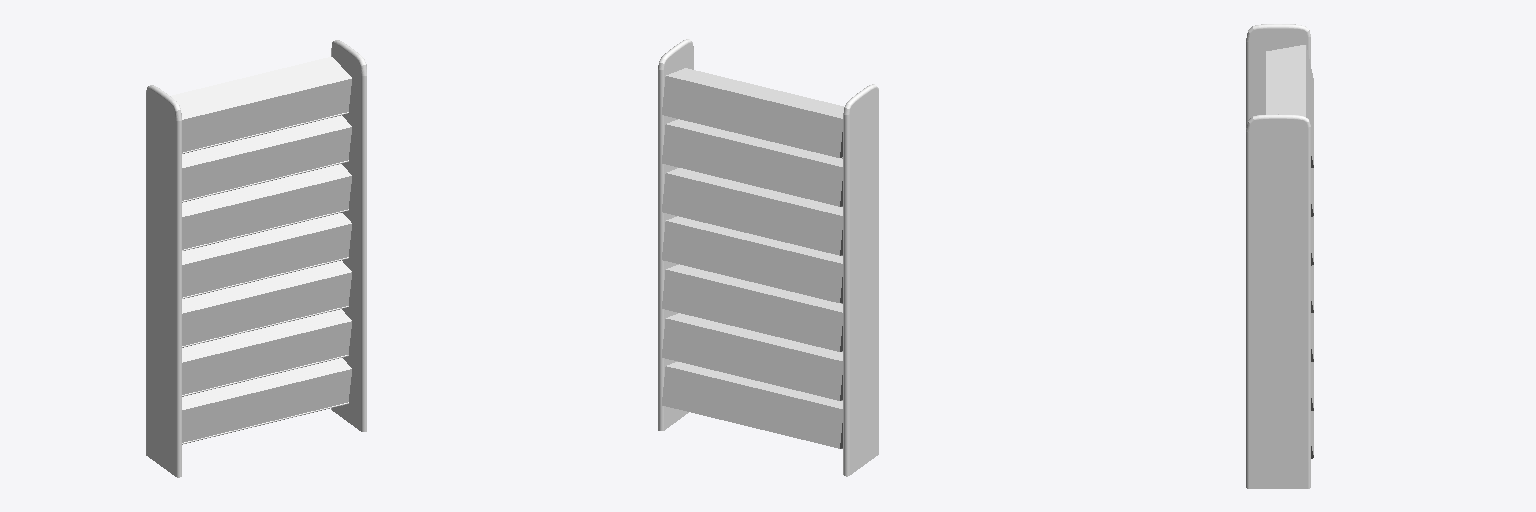
The model's file is CDrack.obj.
3 renders of one model, left to right at view 1: azimuth 30°, elevation 25°; view 2: azimuth 150°, elevation 25°; view 3: azimuth 270°, elevation 25°, orthographic.
Visible parts, largest first — view 1: loftedSurface67_29_29, pCube14_3_3, pCube2064_24_24, pCube24_6_6, loftedSurface65_27_27, pCube2054_21_21, pCube44_12_12, pCube34_9_9, pCube2044_18_18, pCube12_2_2, loftedSurface67_29_73, pCube2044_18_62 (+24 smaller); view 2: loftedSurface67_29_29, pCube24_6_6, pCube14_3_3, pCube2064_24_24, pCube34_9_9, pCube44_12_12, pCube2044_18_18, pCube2054_21_21, loftedSurface67_29_73, pCube2054_21_65, pCube2044_18_62, pCube44_12_56 (+19 smaller); view 3: loftedSurface66_28_28, loftedSurface66_28_72, pCube12_2_2, extrudedSurface1521_26_26, loftedSurface68_30_30, loftedSurface68_30_74, pCube12_2_46, extrudedSurface1521_26_70.
Part boxes in pixels (bbox=[...]): loftedSurface67_29_29: bbox=[147, 89, 175, 476]; pCube14_3_3: bbox=[182, 79, 351, 151]; pCube2064_24_24: bbox=[182, 369, 351, 442]; pCube24_6_6: bbox=[182, 127, 351, 200]; loftedSurface65_27_27: bbox=[332, 44, 360, 430]; pCube2054_21_21: bbox=[182, 321, 351, 394]; pCube44_12_12: bbox=[182, 224, 351, 296]; pCube34_9_9: bbox=[182, 176, 351, 249]; pCube2044_18_18: bbox=[182, 273, 351, 345]; pCube12_2_2: bbox=[171, 57, 351, 119]; loftedSurface67_29_73: bbox=[147, 89, 175, 474]; pCube2044_18_62: bbox=[182, 272, 351, 344]; loftedSurface67_29_29: bbox=[850, 89, 878, 473]; pCube24_6_6: bbox=[662, 124, 842, 206]; pCube14_3_3: bbox=[662, 76, 842, 157]; pCube2064_24_24: bbox=[662, 366, 842, 448]; pCube34_9_9: bbox=[662, 173, 842, 255]; pCube44_12_12: bbox=[662, 221, 842, 302]; pCube2044_18_18: bbox=[662, 270, 842, 351]; pCube2054_21_21: bbox=[662, 319, 842, 400]; loftedSurface67_29_73: bbox=[850, 88, 878, 474]; pCube2054_21_65: bbox=[662, 320, 842, 400]; pCube2044_18_62: bbox=[662, 270, 842, 350]; pCube44_12_56: bbox=[662, 221, 842, 302]; loftedSurface66_28_28: bbox=[1249, 119, 1307, 488]; loftedSurface66_28_72: bbox=[1249, 119, 1307, 488]; pCube12_2_2: bbox=[1266, 45, 1305, 116]; extrudedSurface1521_26_26: bbox=[1246, 114, 1310, 488]; loftedSurface68_30_30: bbox=[1249, 29, 1307, 118]; loftedSurface68_30_74: bbox=[1249, 29, 1306, 117]; pCube12_2_46: bbox=[1266, 45, 1305, 114]; extrudedSurface1521_26_70: bbox=[1246, 115, 1310, 488].
Bounding box in the file's own units: 65.7 × 122 × 20.3.